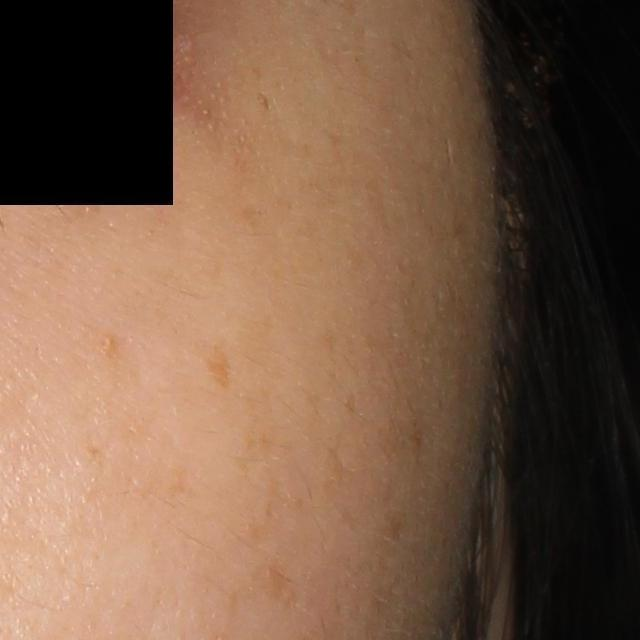melasma: (189, 335, 237, 393), (254, 90, 272, 114)
